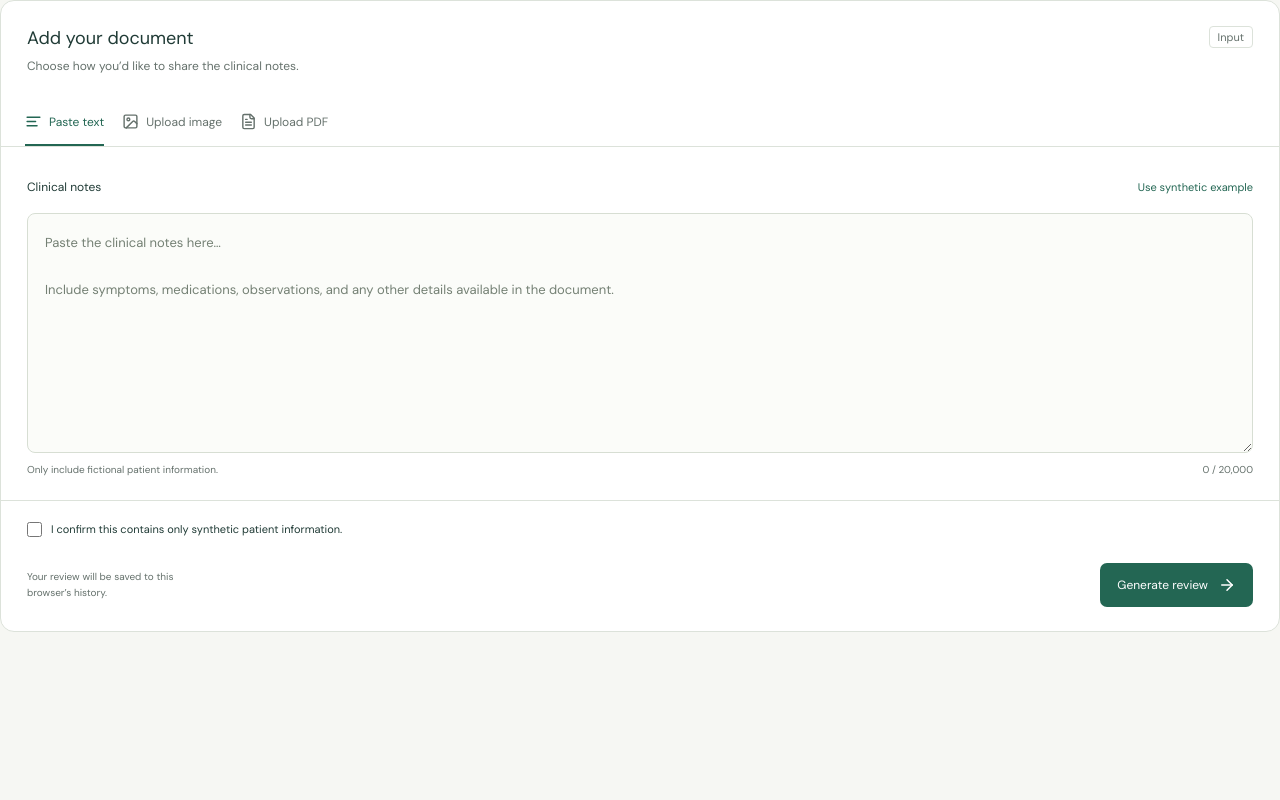
Input failure recovery › requires synthetic confirmation
This screenshot has width=1280, height=800.
Click the button "Generate review".
click(1177, 585)  # box [1100,563,1253,607]
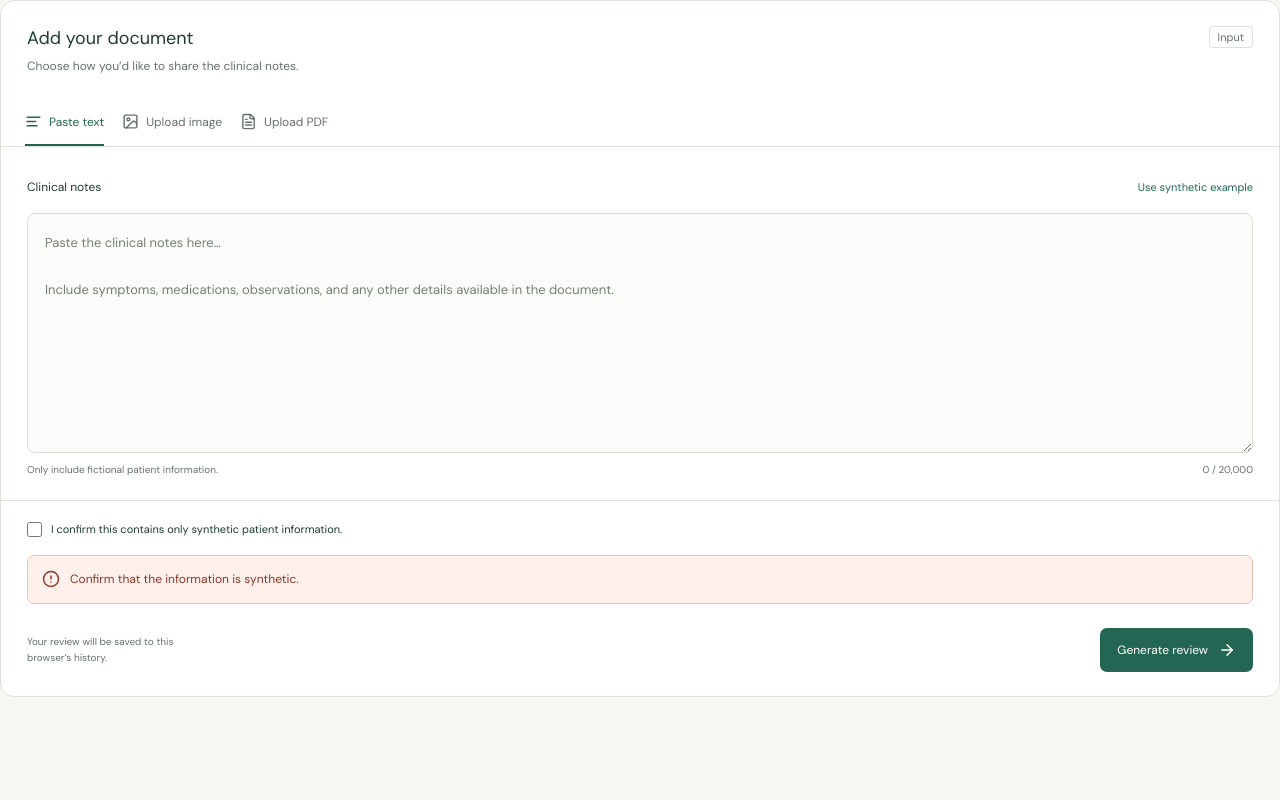
Expected: the message shows "Confirm that the information is synthetic", [70,571,299,587]
